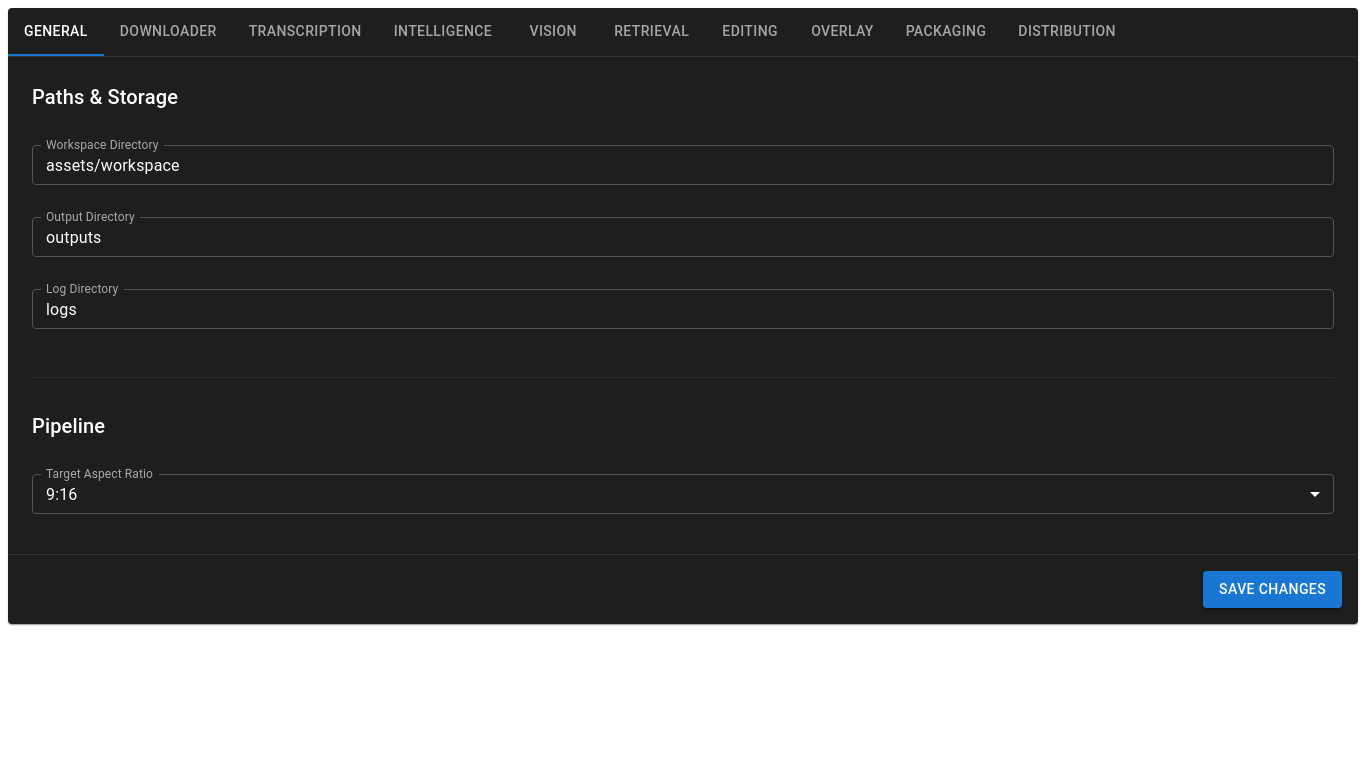
Test: SettingsView Component › saves settings when Save button is clicked
The width and height of the screenshot is (1366, 768).
Switch to Intelligence tab
Click the tab "Intelligence" at (443, 32), box [378, 8, 508, 56]
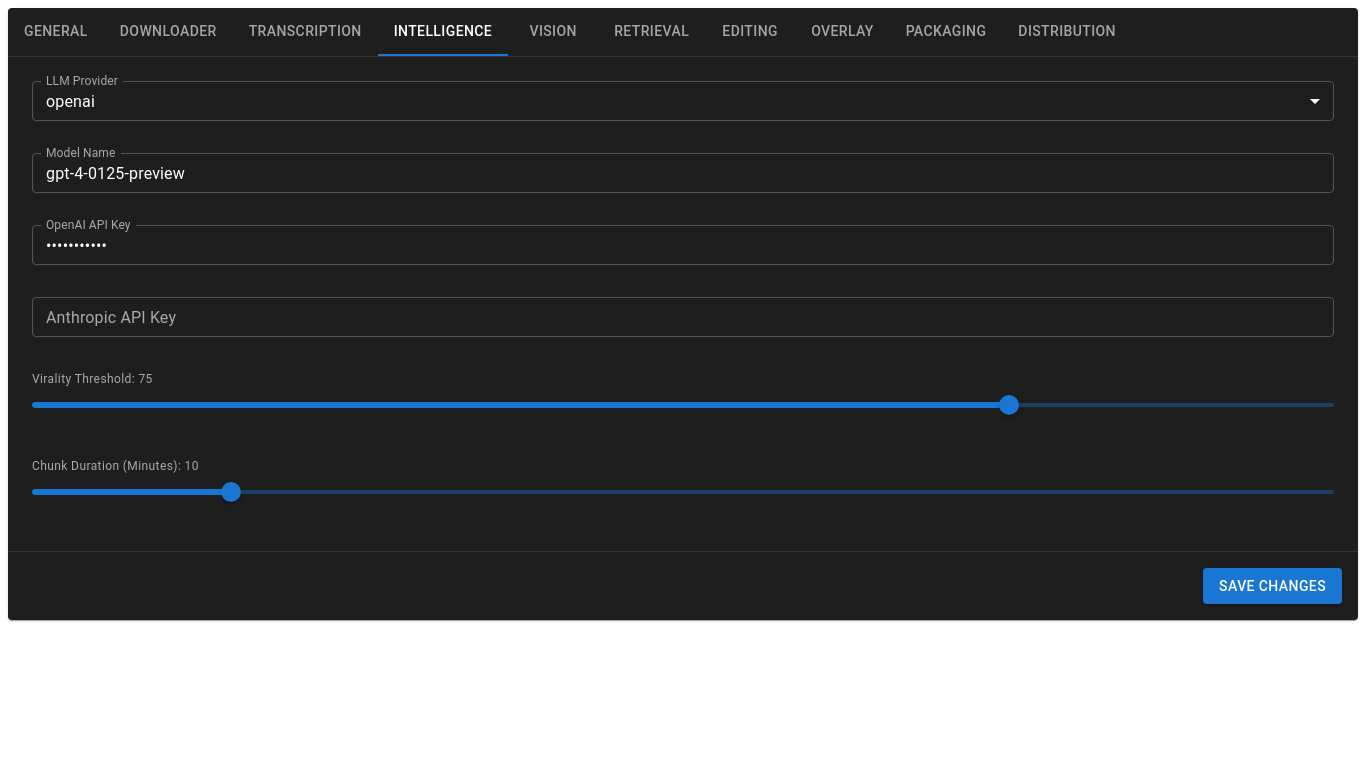
Change a value
Replace the text in the field showing "gpt-4-0125-preview" with "gpt-4-turbo" at (683, 173), box [32, 153, 1334, 193]
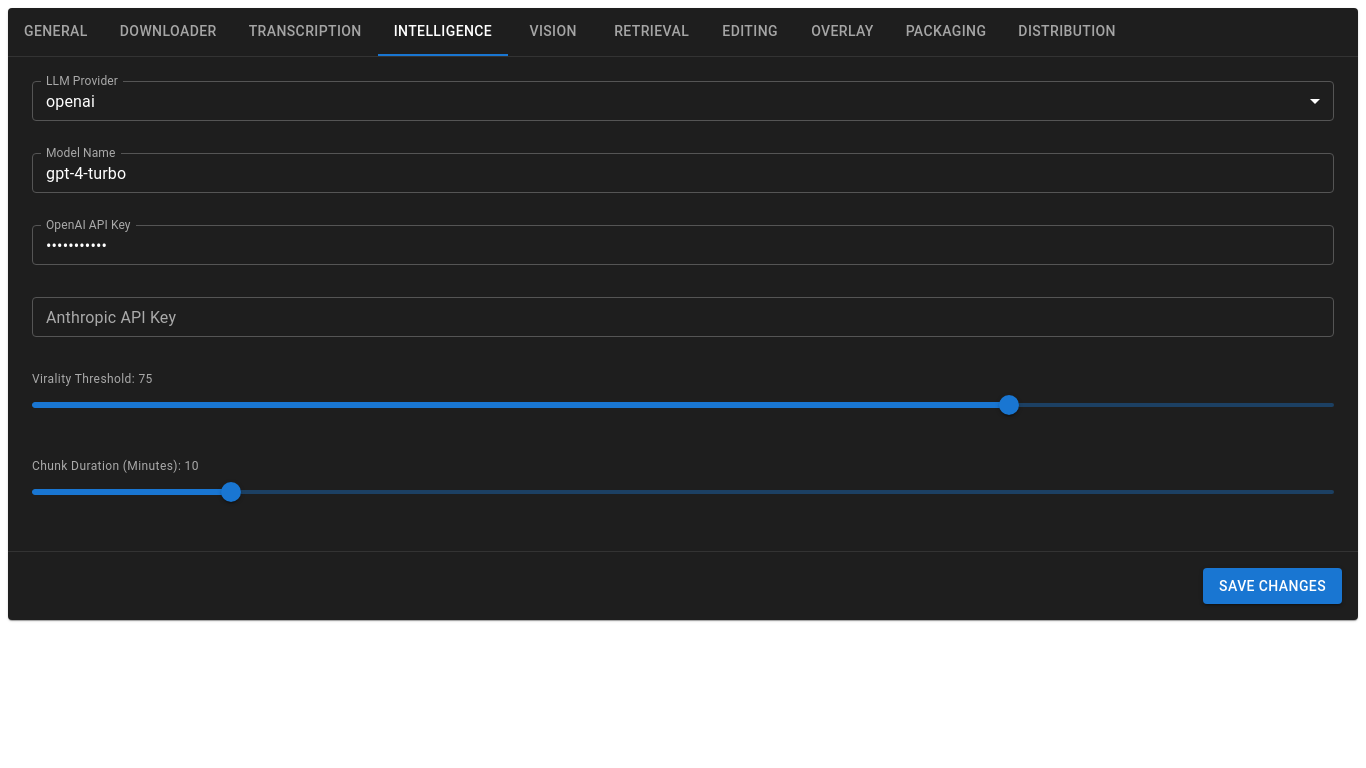
Click Save
Click the button "Save Changes" at (1273, 586), box [1203, 568, 1342, 604]
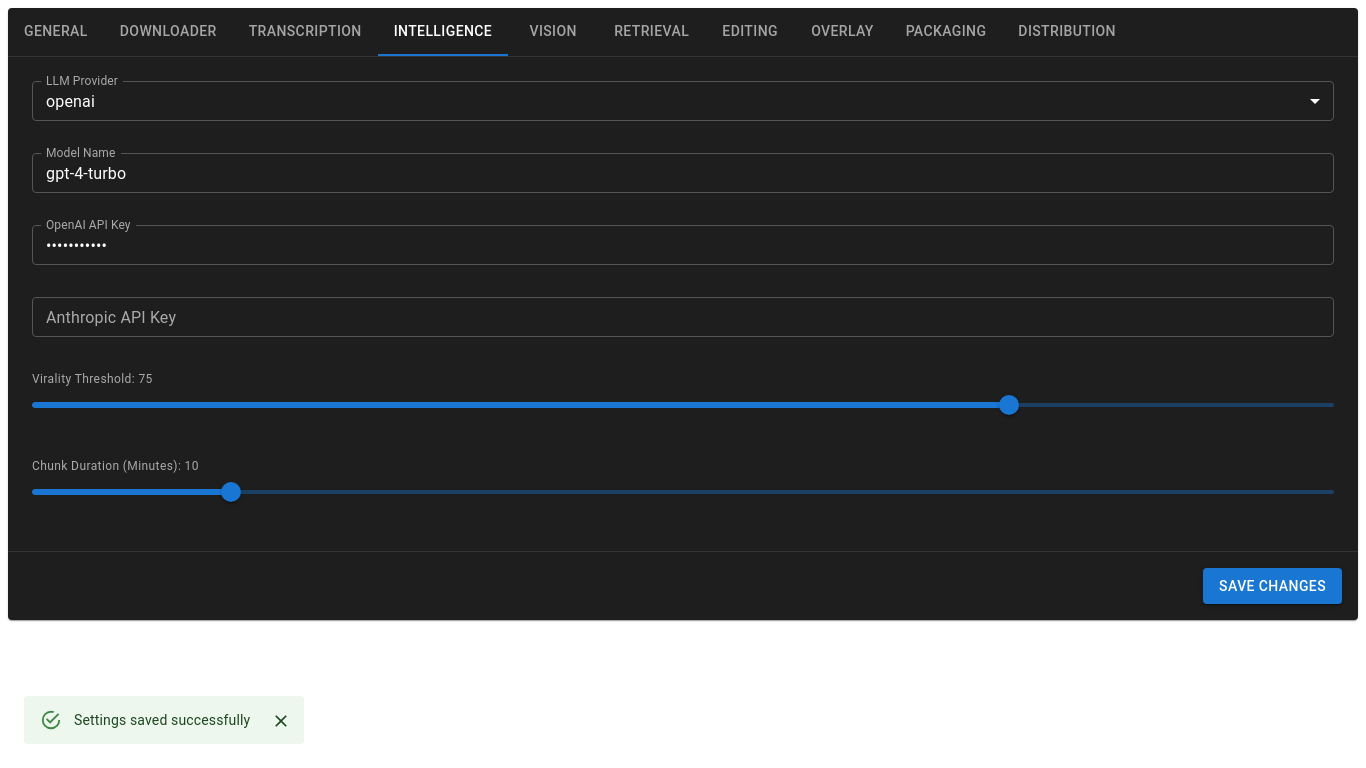
Expected: the text "Settings saved successfully" is shown, [74, 712, 250, 728]
